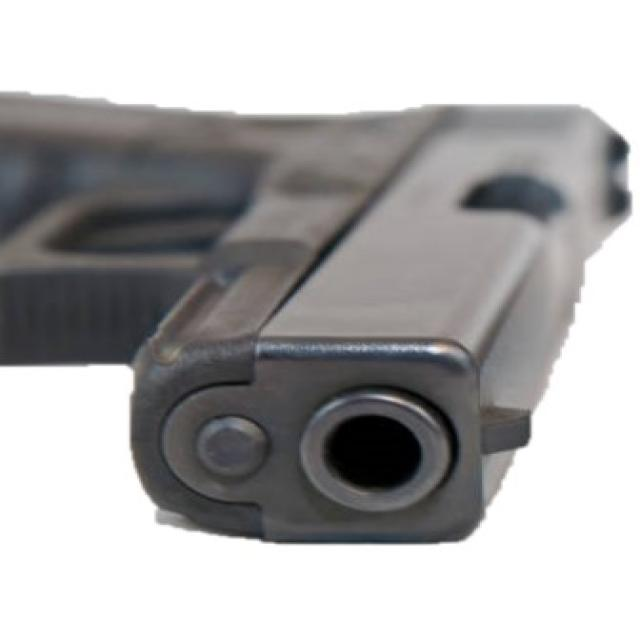pistol: (1, 71, 637, 562)
